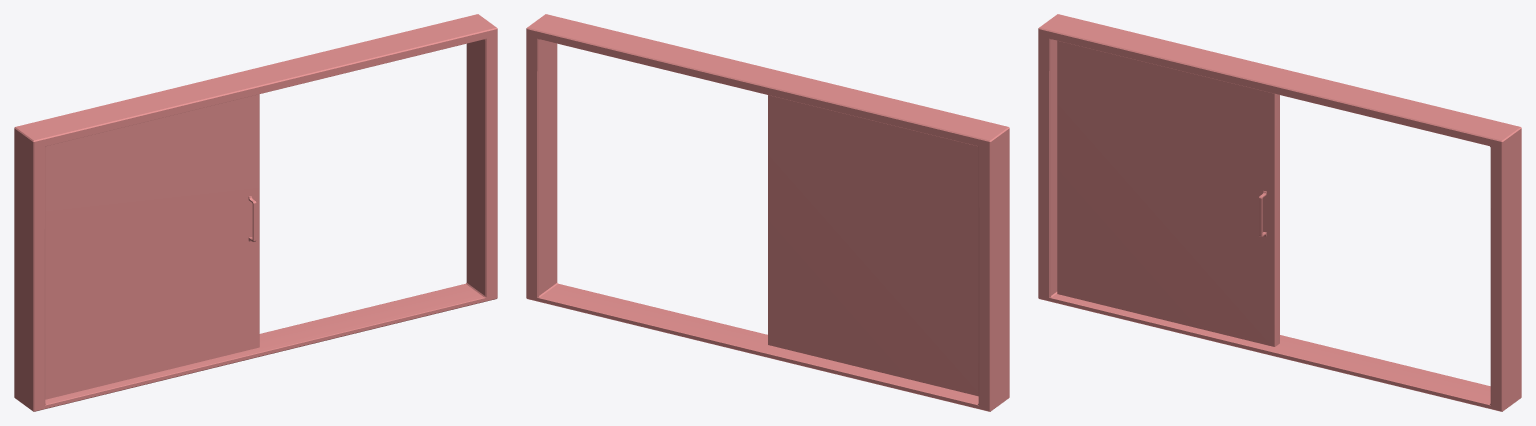
The model's file is School_BuildingDoor.fbx.
The picture shows the model from 3 angles, left to right: view 1: azimuth 30°, elevation 25°; view 2: azimuth 150°, elevation 25°; view 3: azimuth 330°, elevation 25°; orthographic projection.
Parts seen in each view (by area): view 1: SchoolDoor_Door, SchoolDoor_Frame; view 2: SchoolDoor_Door, SchoolDoor_Frame; view 3: SchoolDoor_Door, SchoolDoor_Frame.
Boxes of the visible parts, left/top/right/bottom form: SchoolDoor_Door: left=45, top=94, right=259, bottom=399; SchoolDoor_Frame: left=14, top=14, right=497, bottom=411; SchoolDoor_Door: left=768, top=95, right=978, bottom=396; SchoolDoor_Frame: left=526, top=14, right=1009, bottom=411; SchoolDoor_Door: left=1057, top=41, right=1279, bottom=346; SchoolDoor_Frame: left=1038, top=14, right=1521, bottom=411.
Bounding box in the file's own units: 13.62 × 7.6 × 1.
